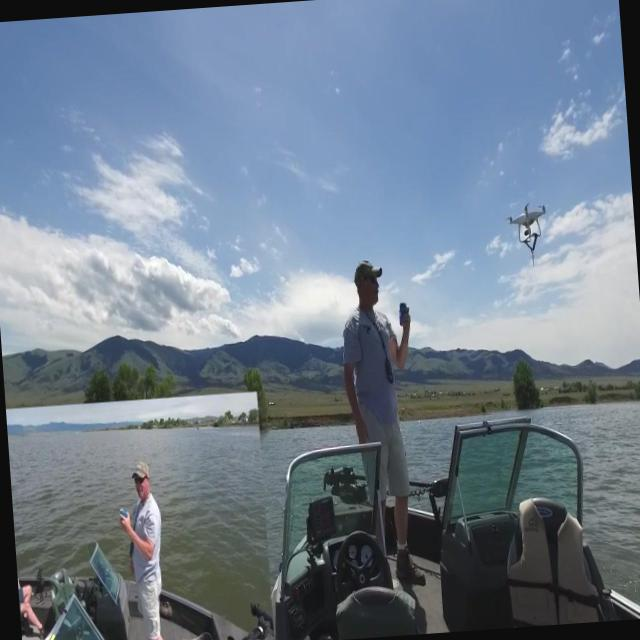drone: (504, 199, 550, 270)
